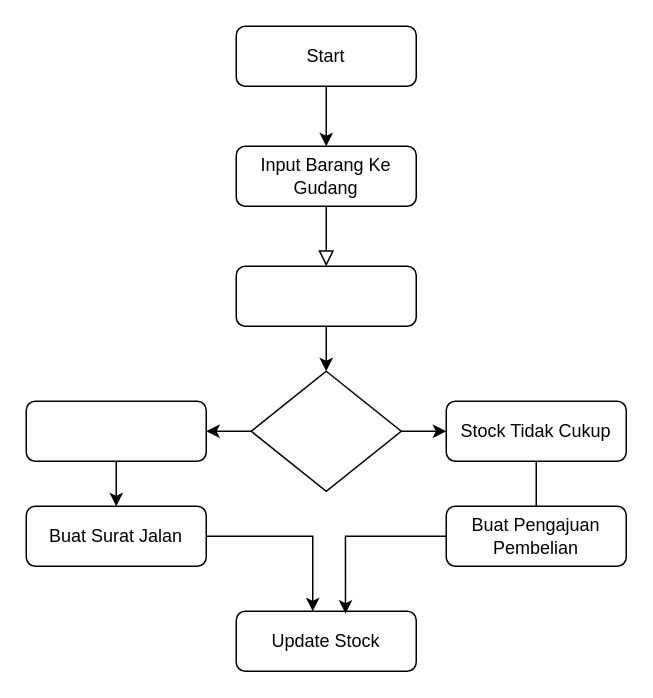
The diagram is 653 pixels wide and 698 high, and some of its shapes have lost their labels. The centre of each missing label's shape, as x and y in pixels:
"Permintaan Material" belongs at (325,295).
"Stock" belongs at (325,430).
"Stock Cukup" belongs at (115,430).
